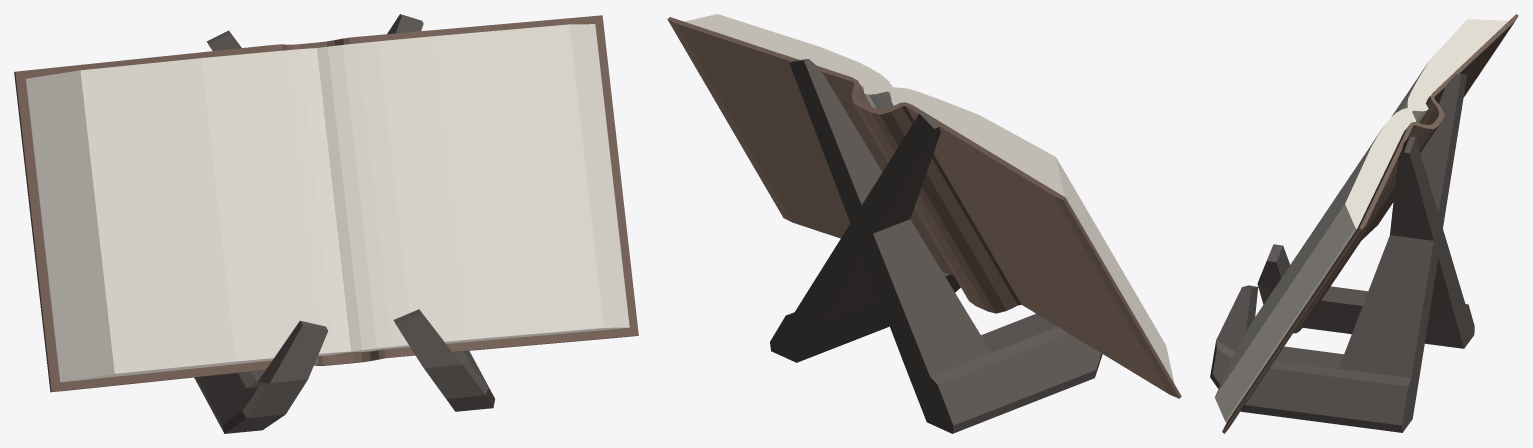
Rendered from ingredientsBookWithStand.fbx.
3 views of the same model, side by side, from view 1: azimuth 30°, elevation 25°; view 2: azimuth 150°, elevation 25°; view 3: azimuth 270°, elevation 25° (orthographic). The views are drawn at different scales.
Visible parts, largest first — view 1: bookPages, bookCover, bookStand; view 2: bookCover, bookStand, bookPages; view 3: bookStand, bookPages, bookCover.
Part boxes in pixels (bbox=[...]): bookPages: bbox=[25, 24, 629, 382]; bookCover: bbox=[14, 15, 638, 392]; bookStand: bbox=[194, 14, 494, 433]; bookCover: bbox=[667, 17, 1181, 398]; bookStand: bbox=[770, 59, 1102, 433]; bookPages: bbox=[684, 14, 1174, 383]; bookStand: bbox=[1210, 74, 1474, 432]; bookPages: bbox=[1214, 19, 1507, 422]; bookCover: bbox=[1222, 14, 1518, 433].
Size of the model in its own units: 9.68 by 5.4 by 5.44.
